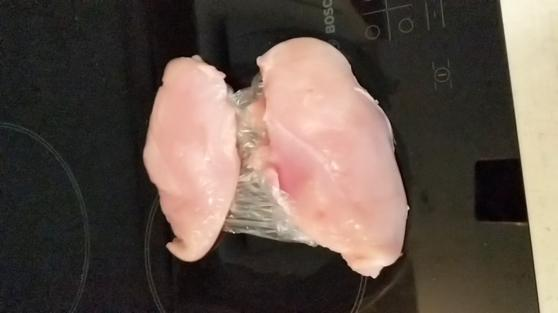chicken_fillet: (257, 37, 412, 278), (142, 52, 240, 262)
